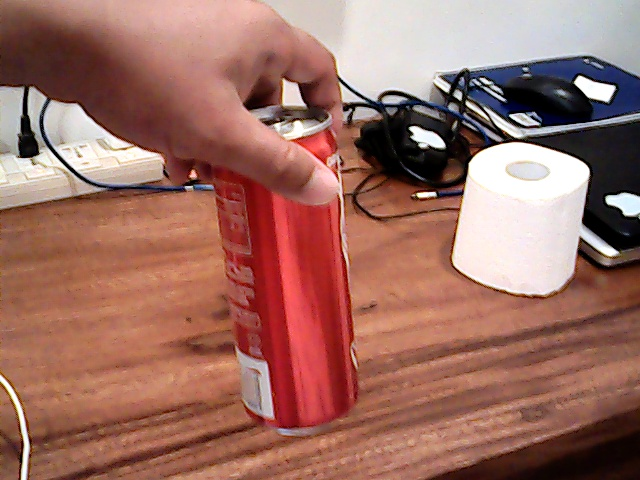Cola: (207, 125, 369, 425)
